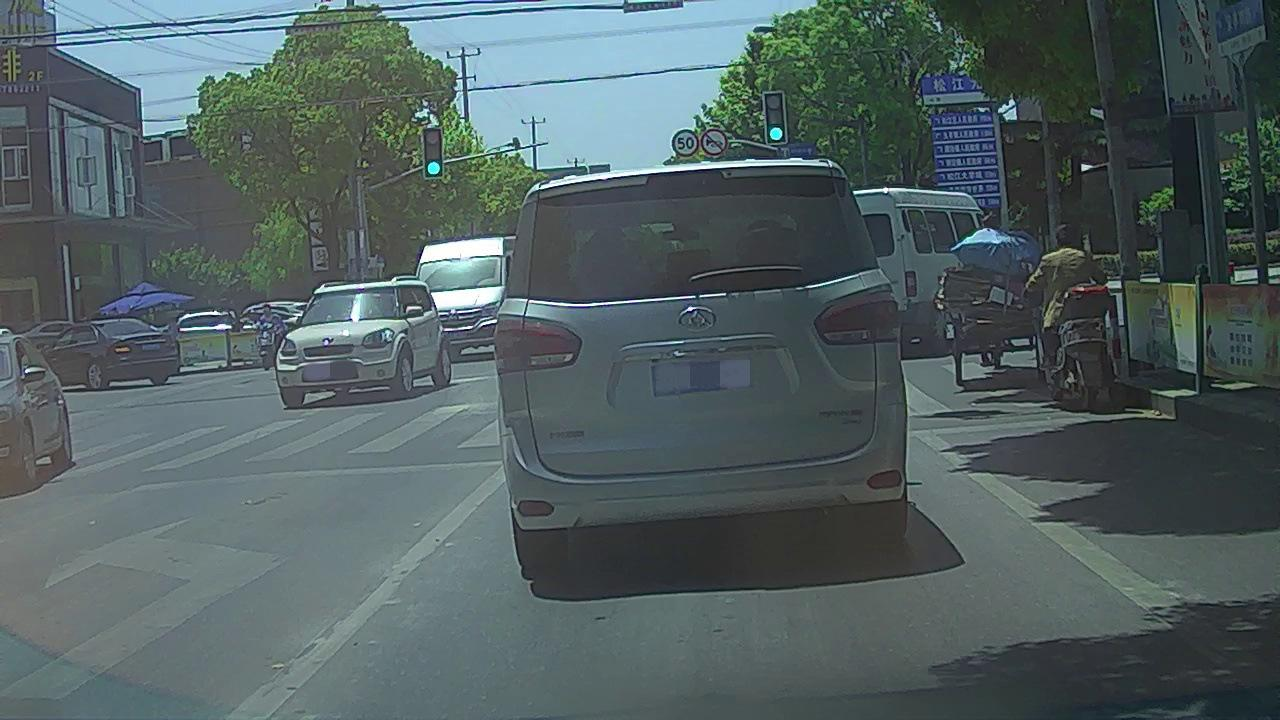traffic_light: (765, 92, 786, 143), (425, 129, 442, 178)
